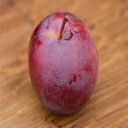apple: (26, 11, 100, 117)
